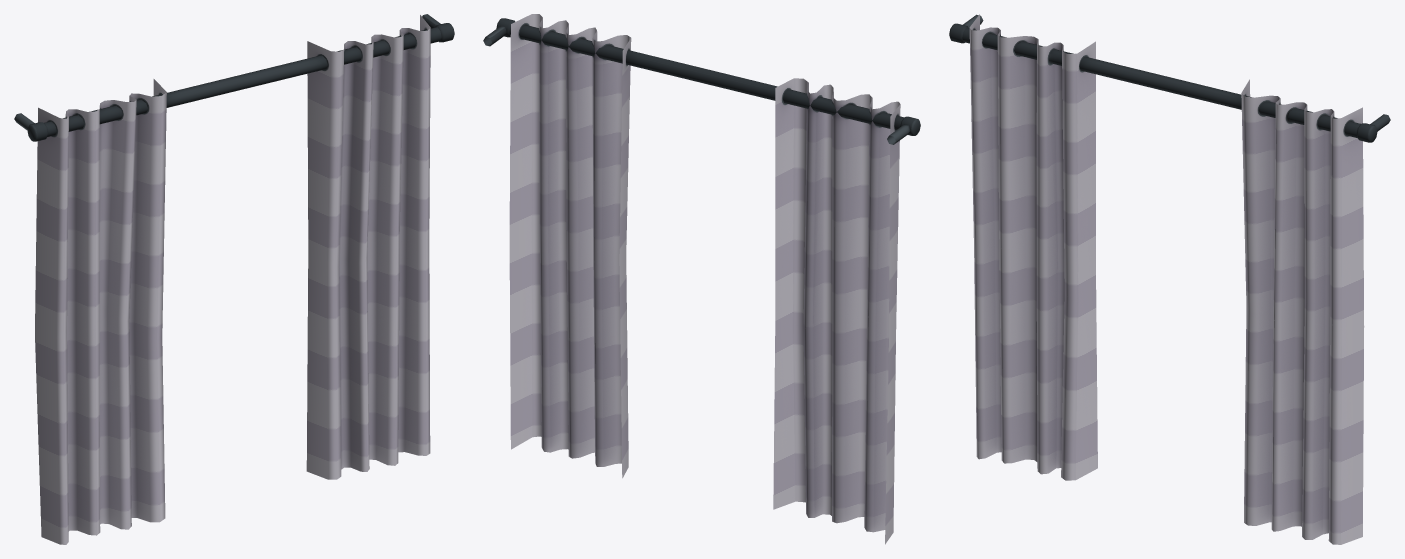
The model's file is Curtains.fbx.
The picture shows the model from 3 angles, left to right: view 1: azimuth 30°, elevation 25°; view 2: azimuth 150°, elevation 25°; view 3: azimuth 330°, elevation 25°; orthographic projection.
Parts seen in each view (by area): view 1: Curtain_L, Curtain_R, HangingPole; view 2: Curtain_L, Curtain_R, HangingPole; view 3: Curtain_L, Curtain_R, HangingPole.
Part boxes in pixels (x1=…): Curtain_L: x1=35, y1=79, x2=166, y2=544; Curtain_R: x1=306, y1=15, x2=430, y2=479; HangingPole: x1=14, y1=14, x2=454, y2=141; Curtain_L: x1=773, y1=78, x2=900, y2=544; Curtain_R: x1=509, y1=14, x2=631, y2=478; HangingPole: x1=483, y1=18, x2=920, y2=144; Curtain_L: x1=969, y1=14, x2=1097, y2=480; Curtain_R: x1=1241, y1=79, x2=1364, y2=544; HangingPole: x1=949, y1=14, x2=1390, y2=142.
Bounding box in the file's own units: 118 × 117 × 13.34.
Materials: 1 (1 with a texture image).
